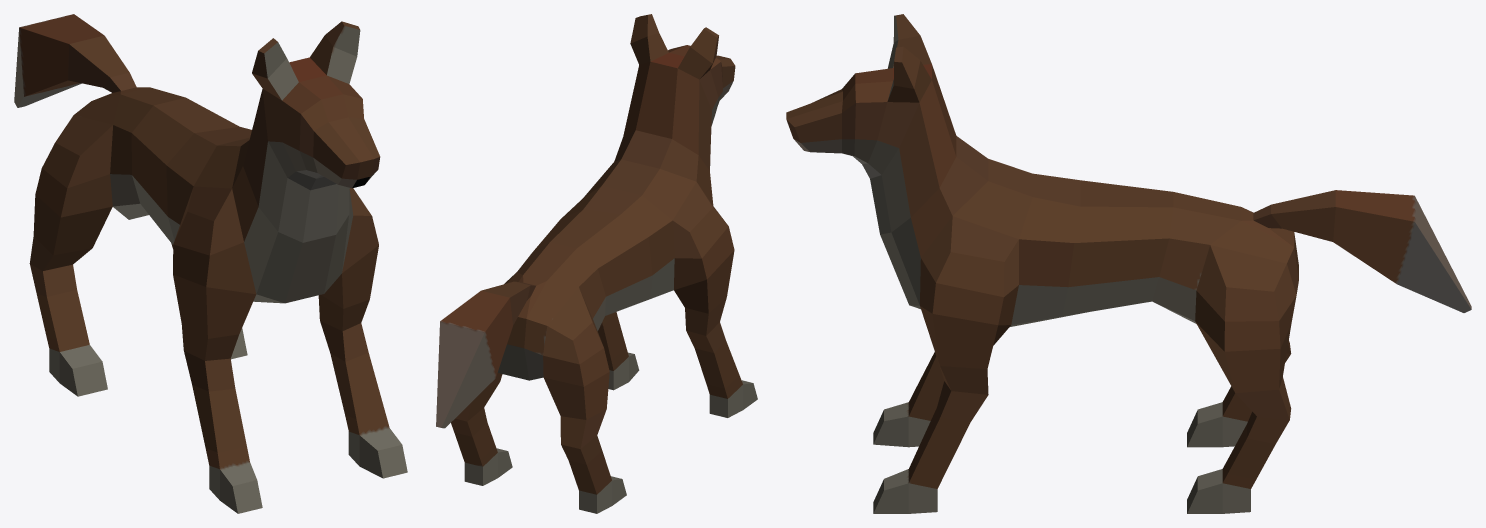
File: Low_Poly_Dog.glb
3 renders of one model, left to right at view 1: azimuth 30°, elevation 25°; view 2: azimuth 150°, elevation 25°; view 3: azimuth 270°, elevation 25°, orthographic. The views are drawn at different scales.
Visible parts, largest first — view 1: Mesh_LPDog_M_0; view 2: Mesh_LPDog_M_0; view 3: Mesh_LPDog_M_0.
Part boxes in pixels (<box>): Mesh_LPDog_M_0: <box>14,14,407,513</box>; Mesh_LPDog_M_0: <box>436,14,757,513</box>; Mesh_LPDog_M_0: <box>786,14,1471,513</box>.
Size of the model in its own units: 575 by 1437 by 2014.
Materials: 1 (1 with a texture image).
